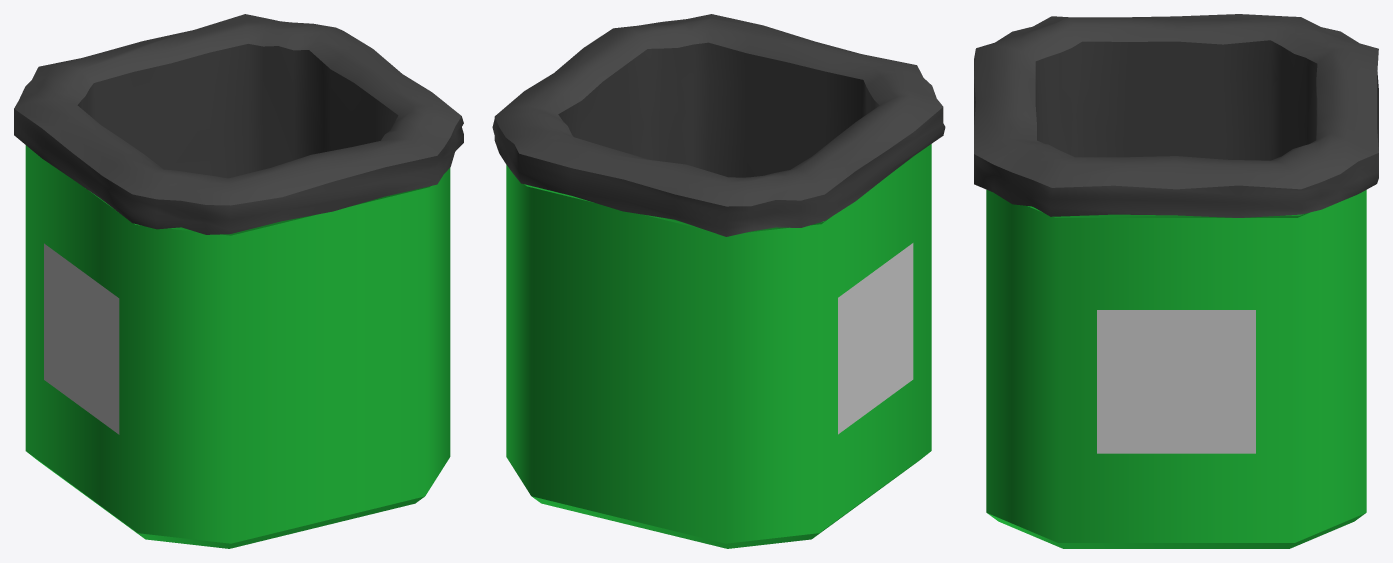
Rendered from bin.fbx.
3 renders of one model, left to right at view 1: azimuth 30°, elevation 25°; view 2: azimuth 150°, elevation 25°; view 3: azimuth 270°, elevation 25°, orthographic. The views are drawn at different scales.
Visible parts, largest first — view 1: Cube, Cube.001, Plane.001; view 2: Cube, Cube.001, Plane.001; view 3: Cube, Cube.001, Plane.
Boxes of the visible parts, bbox=[...] form: Cube: bbox=[25, 145, 450, 548]; Cube.001: bbox=[14, 14, 463, 234]; Plane.001: bbox=[44, 243, 119, 434]; Cube: bbox=[506, 144, 931, 548]; Cube.001: bbox=[492, 14, 945, 236]; Plane.001: bbox=[838, 243, 913, 434]; Cube: bbox=[986, 189, 1366, 548]; Cube.001: bbox=[974, 14, 1378, 217]; Plane: bbox=[1097, 310, 1255, 453].
Size of the model in its own units: 213 by 223 by 213.
